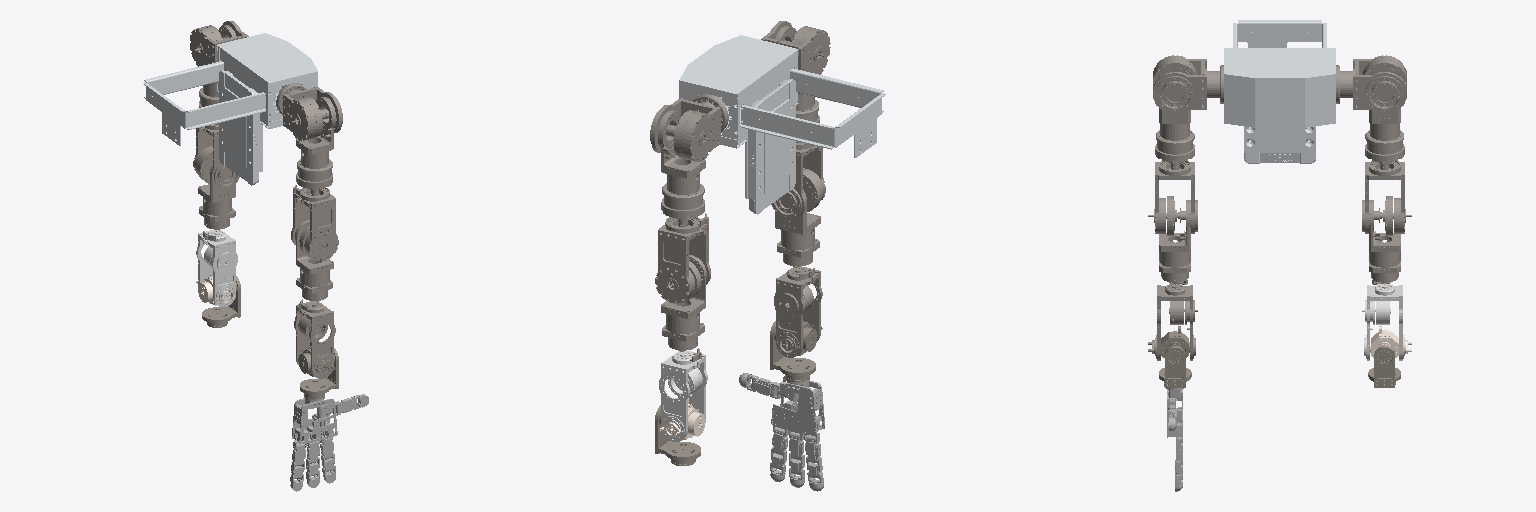
--- Render facts (derived) ---
The picture shows the robot from 3 angles, left to right: view 1: azimuth 30°, elevation 25°; view 2: azimuth 150°, elevation 25°; view 3: azimuth 270°, elevation 25°; orthographic projection.
Model dualarm with 38 links and 37 joints (34 revolute, 1 prismatic, 2 fixed), rooted at base_link, posed all joints at 0.
Visible links, largest first — view 1: body_link, RShY_Link, RShP_Link, RShR_Link, LWrY_Link, RWrY_Link, LElP_Link, RElP_Link, RHandbase_Link, LShY_Link, LShP_Link, LWrR_Link (+2 smaller); view 2: body_link, LShY_Link, LShP_Link, RWrY_Link, LShR_Link, LWrY_Link, RElP_Link, LElP_Link, RHandbase_Link, RShY_Link, RShP_Link, RWrR_Link (+3 smaller); view 3: body_link, RShP_Link, LShP_Link, LShR_Link, RShR_Link, LShY_Link, RShY_Link, LElP_Link, RElP_Link, LWrY_Link, RWrY_Link, LWrR_Link (+3 smaller).
Link boxes in pixels (x1,y1,x2,y2): body_link: [143, 33, 317, 185]; RShY_Link: [291, 188, 338, 260]; RShP_Link: [276, 83, 342, 140]; RShR_Link: [293, 97, 336, 195]; LWrY_Link: [196, 229, 237, 306]; RWrY_Link: [294, 301, 335, 378]; LElP_Link: [198, 165, 235, 240]; RElP_Link: [295, 220, 333, 310]; RHandbase_Link: [292, 396, 337, 444]; LShY_Link: [193, 124, 239, 189]; LShP_Link: [190, 21, 248, 66]; LWrR_Link: [202, 276, 240, 327]; body_link: [679, 35, 885, 214]; LShY_Link: [655, 217, 710, 303]; LShP_Link: [650, 94, 728, 161]; RWrY_Link: [774, 266, 822, 357]; LShR_Link: [658, 110, 708, 226]; LWrY_Link: [659, 350, 707, 441]; RElP_Link: [775, 190, 820, 278]; LElP_Link: [661, 255, 706, 361]; RHandbase_Link: [771, 375, 824, 434]; RShY_Link: [771, 143, 825, 219]; RShP_Link: [761, 21, 830, 74]; RWrR_Link: [770, 321, 815, 381]; body_link: [1224, 20, 1335, 163]; RShP_Link: [1153, 55, 1223, 113]; LShP_Link: [1336, 55, 1406, 113]; LShR_Link: [1365, 81, 1404, 169]; RShR_Link: [1155, 81, 1194, 169]; LShY_Link: [1362, 161, 1411, 239]; RShY_Link: [1148, 161, 1197, 239]; LElP_Link: [1369, 200, 1400, 284]; RElP_Link: [1159, 200, 1190, 284]; LWrY_Link: [1362, 283, 1404, 360]; RWrY_Link: [1155, 283, 1197, 360]; LWrR_Link: [1368, 346, 1400, 387].
Size in the robot's own frame: 0.3863 by 0.529 by 0.9342 metres.
Meshes: 38 distinct files referenced, 32 mesh visuals loaded (32 binary STL); not drawn: 6 (reference not matched to a file when rendering).

robot.urdf — dualarm:
<?xml version="1.0" encoding="utf-8"?>
<!-- This URDF was automatically created by SolidWorks to URDF Exporter! Originally created by Stephen Brawner ([email redacted]) 
     Commit Version: 1.6.0-1-g15f4949  Build Version: 1.6.7594.29634
     For more information, please see http://wiki.ros.org/sw_urdf_exporter -->

<robot name="dualarm">

<mujoco>
        <compiler meshdir="meshes"                  balanceinertia="true"                  strippath="false"/>
        <option collision="predefined" cone="elliptic" jacobian="sparse" tolerance="1e-6" iterations="30" solver="CG" timestep="0.002"/>
</mujoco>

  <link
    name="base_link">
    <inertial>
      <origin
        xyz="-4.0953E-06 -0.042766 0.22804"
        rpy="0 0 -1.5707963267949" />
      <mass
        value="44.006" />
      <inertia
        ixx="3.0534"
        ixy="-5.4432E-07"
        ixz="4.6629E-06"
        iyy="3.5629"
        iyz="-0.0079515"
        izz="3.3409" />
    </inertial>
    <visual>
      <origin
        xyz="0 0 0"
        rpy="0 0 -1.5707963267949" />
      <geometry>
        <mesh
          filename="base_link.STL" />
      </geometry>
	<origin
        xyz="0 0 0"
        rpy="0 0 1" />
      <material
        name="">
        <color
          rgba="0.50196 1 0.50196 1" />
      </material>
    </visual>
    <collision>
      <origin
        xyz="0 0 0"
        rpy="0 0 -1.5707963267949" />
      <geometry>
        <mesh
          filename="base_link.STL" />
      </geometry>
    </collision>
  </link>
  <link
    name="body_link">
    <inertial>
      <origin
        xyz="0.070879 0.38092 3.2435E-05"
        rpy="0 0 0" />
      <mass
        value="5.9559" />
      <inertia
        ixx="0.017572"
        ixy="3.3631E-05"
        ixz="1.2495E-05"
        iyy="0.012836"
        iyz="8.0101E-06"
        izz="0.012672" />
    </inertial>
    <visual>
      <origin
        xyz="0 0 0"
        rpy="0 0 0" />
      <geometry>
        <mesh
          filename="body_link.STL" />
      </geometry>
      <material
        name="">
        <color
          rgba="0.89804 0.91765 0.92941 1" />
      </material>
    </visual>
    <collision>
      <origin
        xyz="0 0 0"
        rpy="0 0 0" />
      <geometry>
        <mesh
          filename="body_link.STL" />
      </geometry>
    </collision>
  </link>
  <joint
    name="j0"
    type="prismatic">
    <origin
      xyz="0.159800001842985 0 0.615"
      rpy="1.5707963267949 0 0" />
    <parent
      link="base_link" />
    <child
      link="body_link" />
    <axis
      xyz="0 1 0" />
    <limit
      lower="-0.3"
      upper="0.3"
      effort="100"
      velocity="10" />
    <dynamics
      damping="5.0"
      friction="1.0" />
  </joint>
  <link
    name="LShP_Link">
    <inertial>
      <origin
        xyz="-0.013031 -8.3122E-05 -0.078324"
        rpy="0 0 0" />
      <mass
        value="2.0773" />
      <inertia
        ixx="0.0019773"
        ixy="-1.8753E-09"
        ixz="4.9862E-06"
        iyy="0.001179"
        iyz="2.8364E-07"
        izz="3.5291747" />
    </inertial>
    <visual>
      <origin
        xyz="0 0 0"
        rpy="0 0 0" />
      <geometry>
        <mesh
          filename="LShP_Link.STL" />
      </geometry>
      <material
        name="">
        <color
          rgba="0.66667 0.63922 0.61961 1" />
      </material>
    </visual>
    <collision>
      <origin
        xyz="0 0 0"
        rpy="0 0 0" />
      <geometry>
        <mesh
          filename="LShP_Link.STL" />
      </geometry>
    </collision>
  </link>
  <joint
    name="j1"
    type="revolute">
    <origin
      xyz="0.0762 0.3943 -0.121"
      rpy="0 0 0" />
    <parent
      link="body_link" />
    <child
      link="LShP_Link" />
    <axis
      xyz="0 0 -1" />
    <limit
      lower="-3.14"
      upper="3.14"
      effort="100"
      velocity="10" />
    <dynamics
      damping="5.0"
      friction="1.0" />
  </joint>
  <link
    name="LShR_Link">
    <inertial>
      <origin
        xyz="-0.020572 -0.12696 2.6805E-05"
        rpy="0 0 0" />
      <mass
        value="1.9866" />
      <inertia
        ixx="3.5290873"
        ixy="-8.7998E-05"
        ixz="-8.3769E-08"
        iyy="0.0014181"
        iyz="-9.5082E-09"
        izz="0.0010816" />
    </inertial>
    <visual>
      <origin
        xyz="0 0 0"
        rpy="0 0 0" />
      <geometry>
        <mesh
          filename="LShR_Link.STL" />
      </geometry>
      <material
        name="">
        <color
          rgba="0.66667 0.63922 0.61961 1" />
      </material>
    </visual>
    <collision>
      <origin
        xyz="0 0 0"
        rpy="0 0 0" />
      <geometry>
        <mesh
          filename="LShR_Link.STL" />
      </geometry>
    </collision>
  </link>
  <joint
    name="j2"
    type="revolute">
    <origin
      xyz="0.023 0 -0.089"
      rpy="0 0 0" />
    <parent
      link="LShP_Link" />
    <child
      link="LShR_Link" />
    <axis
      xyz="1 0 0" />
    <limit
      lower="-3.14"
      upper="3.14"
      effort="100"
      velocity="10" />
    <dynamics
      damping="5.0"
      friction="1.0" />
  </joint>
  <link
    name="LShY_Link">
    <inertial>
      <origin
        xyz="-1.906E-06 -0.11912 -0.006149"
        rpy="0 0 0" />
      <mass
        value="1.8888" />
      <inertia
        ixx="0.0011071"
        ixy="-1.5167E-07"
        ixz="2.2366E-08"
        iyy="2.48980209"
        iyz="1.2766E-05"
        izz="0.0016413" />
    </inertial>
    <visual>
      <origin
        xyz="0 0 0"
        rpy="0 0 0" />
      <geometry>
        <mesh
          filename="LShY_Link.STL" />
      </geometry>
      <material
        name="">
        <color
          rgba="0.66667 0.63922 0.61961 1" />
      </material>
    </visual>
    <collision>
      <origin
        xyz="0 0 0"
        rpy="0 0 0" />
      <geometry>
        <mesh
          filename="LShY_Link.STL" />
      </geometry>
    </collision>
  </link>
  <joint
    name="j3"
    type="revolute">
    <origin
      xyz="-0.023 -0.1595 0"
      rpy="0 0 0" />
    <parent
      link="LShR_Link" />
    <child
      link="LShY_Link" />
    <axis
      xyz="0 -1 0" />
    <limit
      lower="-3.14"
      upper="3.14"
      effort="100"
      velocity="10" />
    <dynamics
      damping="5.0"
      friction="1.0" />
  </joint>
  <link
    name="LElP_Link">
    <inertial>
      <origin
        xyz="-9.5593E-05 -0.10373 -0.0011155"
        rpy="0 0 0" />
      <mass
        value="1.1558" />
      <inertia
        ixx="0.00046405"
        ixy="-2.3865E-07"
        ixz="-1.4191E-07"
        iyy="0.00052408"
        iyz="-5.4391E-05"
        izz="2.4894565" />
    </inertial>
    <visual>
      <origin
        xyz="0 0 0"
        rpy="0 0 0" />
      <geometry>
        <mesh
          filename="LElP_Link.STL" />
      </geometry>
      <material
        name="">
        <color
          rgba="0.66667 0.63922 0.61961 1" />
      </material>
    </visual>
    <collision>
      <origin
        xyz="0 0 0"
        rpy="0 0 0" />
      <geometry>
        <mesh
          filename="LElP_Link.STL" />
      </geometry>
    </collision>
  </link>
  <joint
    name="j4"
    type="revolute">
    <origin
      xyz="0 -0.1305 0.004"
      rpy="0 0 0" />
    <parent
      link="LShY_Link" />
    <child
      link="LElP_Link" />
    <axis
      xyz="0 0 1" />
    <limit
      lower="-3.14"
      upper="3.14"
      effort="100"
      velocity="10" />
    <dynamics
      damping="5.0"
      friction="1.0" />
  </joint>
  <link
    name="LWrY_Link">
    <inertial>
      <origin
        xyz="-4.2008E-05 -0.092156 -0.003711"
        rpy="0 0 0" />
      <mass
        value="1.3048" />
      <inertia
        ixx="0.00065464"
        ixy="-4.2304E-10"
        ixz="5.1027E-08"
        iyy="1.38329262"
        iyz="4.7231E-07"
        izz="0.00081507" />
    </inertial>
    <visual>
      <origin
        xyz="0 0 0"
        rpy="0 0 0" />
      <geometry>
        <mesh
          filename="LWrY_Link.STL" />
      </geometry>
      <material
        name="">
        <color
          rgba="0.89804 0.89804 0.89804 1" />
      </material>
    </visual>
    <collision>
      <origin
        xyz="0 0 0"
        rpy="0 0 0" />
      <geometry>
        <mesh
          filename="LWrY_Link.STL" />
      </geometry>
    </collision>
  </link>
  <joint
    name="j5"
    type="revolute">
    <origin
      xyz="0 -0.12411 -0.004"
      rpy="0 0 0" />
    <parent
      link="LElP_Link" />
    <child
      link="LWrY_Link" />
    <axis
      xyz="0 -1 0" />
    <limit
      lower="-3.14"
      upper="3.14"
      effort="100"
      velocity="10" />
    <dynamics
      damping="5.0"
      friction="1.0" />
  </joint>
  <link
    name="LWrP_Link">
    <inertial>
      <origin
        xyz="0.0032734 -0.00018748 0.041704"
        rpy="0 0 0" />
      <mass
        value="1.0771" />
      <inertia
        ixx="0.00042926"
        ixy="2.6489E-07"
        ixz="-3.0298E-09"
        iyy="0.00029172"
        iyz="7.7372E-09"
        izz="1.38325031" />
    </inertial>
    <visual>
      <origin
        xyz="0 0 0"
        rpy="0 0 0" />
      <geometry>
        <mesh
          filename="LWrP_Link.STL" />
      </geometry>
      <material
        name="">
        <color
          rgba="1 0.94902 0.9098 1" />
      </material>
    </visual>
    <collision>
      <origin
        xyz="0 0 0"
        rpy="0 0 0" />
      <geometry>
        <mesh
          filename="LWrP_Link.STL" />
      </geometry>
    </collision>
  </link>
  <joint
    name="j6"
    type="revolute">
    <origin
      xyz="0 -0.16589 -0.042"
      rpy="0 0 0" />
    <parent
      link="LWrY_Link" />
    <child
      link="LWrP_Link" />
    <axis
      xyz="0 0 -1" />
    <limit
      lower="-3.14"
      upper="3.14"
      effort="100"
      velocity="10" />
    <dynamics
      damping="5.0"
      friction="1.0" />
  </joint>
  <link
    name="LWrR_Link">
    <inertial>
      <origin
        xyz="0.010415 -0.037361 -1.1456E-06"
        rpy="0 0 0" />
      <mass
        value="0.27656" />
      <inertia
        ixx="1.38315913"
        ixy="4.197E-06"
        ixz="-4.0659E-10"
        iyy="8.6287E-05"
        iyz="-3.8448E-09"
        izz="0.00014558" />
    </inertial>
    <visual>
      <origin
        xyz="0 0 0"
        rpy="0 0 0" />
      <geometry>
        <mesh
          filename="LWrR_Link.STL" />
      </geometry>
      <material
        name="">
        <color
          rgba="0.64706 0.61961 0.58824 1" />
      </material>
    </visual>
    <collision>
      <origin
        xyz="0 0 0"
        rpy="0 0 0" />
      <geometry>
        <mesh
          filename="LWrR_Link.STL" />
      </geometry>
    </collision>
  </link>
  <joint
    name="j7"
    type="revolute">
    <origin
      xyz="0.0177 0 0.042"
      rpy="0 0 0" />
    <parent
      link="LWrP_Link" />
    <child
      link="LWrR_Link" />
    <axis
      xyz="1 0 0" />
    <limit
      lower="-3.14"
      upper="3.14"
      effort="100"
      velocity="10" />
    <dynamics
      damping="5.0"
      friction="1.0" />
  </joint>
  <link
    name="RShP_Link">
    <inertial>
      <origin
        xyz="-0.013031 -8.2555E-05 0.078324"
        rpy="0 0 0" />
      <mass
        value="2.0773" />
      <inertia
        ixx="0.0019773"
        ixy="-2.7295E-08"
        ixz="-4.9926E-06"
        iyy="0.001179"
        iyz="-3.0293E-07"
        izz="3.5291747" />
    </inertial>
    <visual>
      <origin
        xyz="0 0 0"
        rpy="0 0 0" />
      <geometry>
        <mesh
          filename="RShP_Link.STL" />
      </geometry>
      <material
        name="">
        <color
          rgba="0.66667 0.63922 0.61961 1" />
      </material>
    </visual>
    <collision>
      <origin
        xyz="0 0 0"
        rpy="0 0 0" />
      <geometry>
        <mesh
          filename="RShP_Link.STL" />
      </geometry>
    </collision>
  </link>
  <joint
    name="j8"
    type="revolute">
    <origin
      xyz="0.0762 0.3943 0.121"
      rpy="0 0 0" />
    <parent
      link="body_link" />
    <child
      link="RShP_Link" />
    <axis
      xyz="0 0 1" />
    <limit
      lower="-3.14"
      upper="3.14"
      effort="100"
      velocity="10" />
    <dynamics
      damping="5.0"
      friction="1.0" />
  </joint>
  <link
    name="RShR_Link">
    <inertial>
      <origin
        xyz="-0.020572 -0.12696 -2.6614E-05"
        rpy="0 0 0" />
      <mass
        value="1.9866" />
      <inertia
        ixx="3.5290873"
        ixy="-8.7998E-05"
        ixz="9.1373E-08"
        iyy="0.0014181"
        iyz="-1.9602E-11"
        izz="0.0010816" />
    </inertial>
    <visual>
      <origin
        xyz="0 0 0"
        rpy="0 0 0" />
      <geometry>
        <mesh
          filename="RShR_Link.STL" />
      </geometry>
      <material
        name="">
        <color
          rgba="0.66667 0.63922 0.61961 1" />
      </material>
    </visual>
    <collision>
      <origin
        xyz="0 0 0"
        rpy="0 0 0" />
      <geometry>
        <mesh
          filename="RShR_Link.STL" />
      </geometry>
    </collision>
  </link>
  <joint
    name="j9"
    type="revolute">
    <origin
      xyz="0.023 0 0.089"
      rpy="0 0 0" />
    <parent
      link="RShP_Link" />
    <child
      link="RShR_Link" />
    <axis
      xyz="1 0 0" />
    <limit
      lower="-3.14"
      upper="3.14"
      effort="100"
      velocity="10" />
    <dynamics
      damping="5.0"
      friction="1.0" />
  </joint>
  <link
    name="RShY_Link">
    <inertial>
      <origin
        xyz="-1.1816E-06 -0.11912 0.006149"
        rpy="0 0 0" />
      <mass
        value="1.8888" />
      <inertia
        ixx="0.0011071"
        ixy="-1.517E-07"
        ixz="4.0354E-09"
        iyy="2.48980209"
        iyz="-1.2766E-05"
        izz="0.0016413" />
    </inertial>
    <visual>
      <origin
        xyz="0 0 0"
        rpy="0 0 0" />
      <geometry>
        <mesh
          filename="RShY_Link.STL" />
      </geometry>
      <material
        name="">
        <color
          rgba="0.66667 0.63922 0.61961 1" />
      </material>
    </visual>
    <collision>
      <origin
        xyz="0 0 0"
        rpy="0 0 0" />
      <geometry>
        <mesh
          filename="RShY_Link.STL" />
      </geometry>
    </collision>
  </link>
  <joint
    name="j10"
    type="revolute">
    <origin
      xyz="-0.023 -0.1595 0"
      rpy="0 0 0" />
    <parent
      link="RShR_Link" />
    <child
      link="RShY_Link" />
    <axis
      xyz="0 -1 0" />
    <limit
      lower="-3.14"
      upper="3.14"
      effort="100"
      velocity="10" />
    <dynamics
      damping="5.0"
      friction="1.0" />
  </joint>
  <link
    name="RElP_Link">
    <inertial>
      <origin
        xyz="-0.00011214 -0.10373 0.0010998"
        rpy="0 0 0" />
      <mass
        value="1.1558" />
      <inertia
        ixx="0.00046408"
        ixy="-3.9133E-07"
        ixz="1.4188E-07"
        iyy="0.00052408"
        iyz="5.4238E-05"
        izz="2.48945648" />
    </inertial>
    <visual>
      <origin
        xyz="0 0 0"
        rpy="0 0 0" />
      <geometry>
        <mesh
          filename="RElP_Link.STL" />
      </geometry>
      <material
        name="">
        <color
          rgba="0.66667 0.63922 0.61961 1" />
      </material>
    </visual>
    <collision>
      <origin
        xyz="0 0 0"
        rpy="0 0 0" />
      <geometry>
        <mesh
          filename="RElP_Link.STL" />
      </geometry>
    </collision>
  </link>
  <joint
    name="j11"
    type="revolute">
    <origin
      xyz="0 -0.1305 -0.004"
      rpy="0 0 0" />
    <parent
      link="RShY_Link" />
    <child
      link="RElP_Link" />
    <axis
      xyz="0 0 -1" />
    <limit
      lower="-3.14"
      upper="3.14"
      effort="100"
      velocity="10" />
    <dynamics
      damping="5.0"
      friction="1.0" />
  </joint>
  <link
    name="RWrY_Link">
    <inertial>
      <origin
        xyz="-5.7522E-05 -0.092145 0.0037353"
        rpy="0 0 0" />
      <mass
        value="1.3048" />
      <inertia
        ixx="0.00065464"
        ixy="4.2304E-10"
        ixz="5.1027E-08"
        iyy="1.38329262"
        iyz="-4.7231E-07"
        izz="0.00081507" />
    </inertial>
    <visual>
      <origin
        xyz="0 0 0"
        rpy="0 0 0" />
      <geometry>
        <mesh
          filename="RWrY_Link.STL" />
      </geometry>
      <material
        name="">
        <color
          rgba="0.66667 0.63922 0.61961 1" />
      </material>
    </visual>
    <collision>
      <origin
        xyz="0 0 0"
        rpy="0 0 0" />
      <geometry>
        <mesh
          filename="RWrY_Link.STL" />
      </geometry>
    </collision>
  </link>
  <joint
    name="j12"
    type="revolute">
    <origin
      xyz="0 -0.12411 0.004"
      rpy="0 0 0" />
    <parent
      link="RElP_Link" />
    <child
      link="RWrY_Link" />
    <axis
      xyz="0 -1 0" />
    <limit
      lower="-3.14"
      upper="3.14"
      effort="100"
      velocity="10" />
    <dynamics
      damping="5.0"
      friction="1.0" />
  </joint>
  <link
    name="RWrP_Link">
    <inertial>
      <origin
        xyz="0.0022235 -0.00018748 -0.041704"
        rpy="0 0 0" />
      <mass
        value="1.0771" />
      <inertia
        ixx="0.000429261"
        ixy="2.6524E-07"
        ixz="-5.4716E-09"
        iyy="0.000291719"
        iyz="7.7386E-09"
        izz="1.38325031" />
    </inertial>
    <visual>
      <origin
        xyz="0 0 0"
        rpy="0 0 0" />
      <geometry>
        <mesh
          filename="RWrP_Link.STL" />
      </geometry>
      <material
        name="">
        <color
          rgba="0.64706 0.61961 0.58824 1" />
      </material>
    </visual>
    <collision>
      <origin
        xyz="0 0 0"
        rpy="0 0 0" />
      <geometry>
        <mesh
          filename="RWrP_Link.STL" />
      </geometry>
    </collision>
  </link>
  <joint
    name="j13"
    type="revolute">
    <origin
      xyz="0 -0.16589 0.042"
      rpy="0 0 0" />
    <parent
      link="RWrY_Link" />
    <child
      link="RWrP_Link" />
    <axis
      xyz="0 0 1" />
    <limit
      lower="-3.14"
      upper="3.14"
      effort="100"
      velocity="10" />
    <dynamics
      damping="5.0"
      friction="1.0" />
  </joint>
  <link
    name="RWrR_Link">
    <inertial>
      <origin
        xyz="0.010415 -0.037361 -1.1456E-06"
        rpy="0 0 0" />
      <mass
        value="0.27656" />
      <inertia
        ixx="1.38315913"
        ixy="4.197E-06"
        ixz="-4.0659E-10"
        iyy="8.6287E-05"
        iyz="-3.8448E-09"
        izz="0.00014558" />
    </inertial>
    <visual>
      <origin
        xyz="0 0 0"
        rpy="0 0 0" />
      <geometry>
        <mesh
          filename="RWrR_Link.STL" />
      </geometry>
      <material
        name="">
        <color
          rgba="0.64706 0.61961 0.58824 1" />
      </material>
    </visual>
    <collision>
      <origin
        xyz="0 0 0"
        rpy="0 0 0" />
      <geometry>
        <mesh
          filename="RWrR_Link.STL" />
      </geometry>
    </collision>
  </link>
  <joint
    name="j14"
    type="revolute">
    <origin
      xyz="0.0177 0 -0.042"
      rpy="0 0 0" />
    <parent
      link="RWrP_Link" />
    <child
      link="RWrR_Link" />
    <axis
      xyz="1 0 0" />
    <limit
      lower="-3.14"
      upper="3.14"
      effort="100"
      velocity="10" />
    <dynamics
      damping="5.0"
      friction="1.0" />
    <!-- <mimic
      joint="j7"
      multiplier="1"
      offset="0" /> -->
  </joint>
  <!-- base -->
  <link name="rh_p12_rn_base">
    <collision>
      <origin rpy="0 0 0" xyz="0 0 0"/>
      <geometry>
        <mesh filename="base.stl" scale="0.001 0.001 0.001"/>
      </geometry>
    </collision>
    <visual>
      <origin rpy="0 0 0" xyz="0 0 0"/>
      <geometry>
        <mesh filename="base.stl" scale="0.001 0.001 0.001"/>
      </geometry>
      <material
        name="">
        <color
          rgba="0.2 0.2 0.2 1.0"/>
      </material>
    </visual>
    <inertial>
      <origin rpy="0 0 0" xyz="0.000 0.000 0.032"/>
      <mass value="0.236"/>
      <inertia ixx="1.0" ixy="0.0" ixz="0.0" iyy="1.0" iyz="0.0" izz="1.0"/>
    </inertial>
  </link>
  <!-- Joint -->
  <joint name="rh_r1" type="revolute">
    <parent link="rh_p12_rn_base"/>
    <child link="rh_p12_rn_r1"/>
    <origin rpy="0 0 0" xyz="0.0 0.008 0.048"/>
    <axis xyz="1 0 0"/>
    <limit effort="1000" lower="0.0" upper="1.1" velocity="6.5"/>
    <dynamics damping="0.7"/>
  </joint>
  <!-- rh_p12_rn_r1 -->
  <link name="rh_p12_rn_r1">
    <collision>
      <origin rpy="0 0 0" xyz="0 0 0"/>
      <geometry>
        <mesh filename="r1.stl" scale="0.001 0.001 0.001"/>
      </geometry>
    </collision>
    <visual>
      <origin rpy="0 0 0" xyz="0 0 0"/>
      <geometry>
        <mesh filename="r1.stl" scale="0.001 0.001 0.001"/>
      </geometry>
      <material
        name="">
        <color
          rgba="0.2 0.2 0.2 1.0"/>
      </material>
    </visual>
    <inertial>
      <origin rpy="0 0 0" xyz="0.000 0.034 0.004"/>
      <mass value="0.068"/>
      <inertia ixx="1.0" ixy="0.0" ixz="0.0" iyy="1.0" iyz="0.0" izz="1.0"/>
    </inertial>
  </link>
  <!-- Right Joint 2 -->
  <joint name="rh_r2" type="revolute">
    <parent link="rh_p12_rn_r1"/>
    <child link="rh_p12_rn_r2"/>
    <origin rpy="0 0 0" xyz="0.0 0.0493634 0.0285"/>
    <axis xyz="-1 0 0"/>
    <limit effort="1000" lower="0.0" upper="1.0" velocity="6.5"/>
    <dynamics damping="0.7"/>
  </joint>
  <!-- rh_p12_rn_r2 -->
  <link name="rh_p12_rn_r2">
    <collision>
      <origin rpy="0 0 0" xyz="0 0 0"/>
      <geometry>
        <mesh filename="r2.stl" scale="0.001 0.001 0.001"/>
      </geometry>
    </collision>
    <visual>
      <origin rpy="0 0 0" xyz="0 0 0"/>
      <geometry>
        <mesh filename="r2.stl" scale="0.001 0.001 0.001"/>
      </geometry>
      <material
        name="">
        <color
          rgba="0.2 0.2 0.2 1.0"/>
      </material>
    </visual>
    <inertial>
      <origin rpy="0 0 0" xyz="0.000 0.006 0.011"/>
      <mass value="0.022"/>
      <inertia ixx="1.0" ixy="0.0" ixz="0.0" iyy="1.0" iyz="0.0" izz="1.0"/>
    </inertial>
  </link>
  <!-- Left Joint 1 -->
  <joint name="rh_l1" type="revolute">
    <parent link="rh_p12_rn_base"/>
    <child link="rh_p12_rn_l1"/>
    <origin rpy="0 0 0" xyz="0.0 -0.008 0.048"/>
    <axis xyz="-1 0 0"/>
    <limit effort="1000" lower="0.0" upper="1.1" velocity="6.5"/>
    <dynamics damping="0.7"/>
  </joint>
  <!-- rh_p12_rn_l1 -->
  <link name="rh_p12_rn_l1">
    <collision>
      <origin rpy="0 0 0" xyz="0 0 0"/>
      <geometry>
        <mesh filename="l1.stl" scale="0.001 0.001 0.001"/>
      </geometry>
    </collision>
    <visual>
      <origin rpy="0 0 0" xyz="0 0 0"/>
      <geometry>
        <mesh filename="l1.stl" scale="0.001 0.001 0.001"/>
      </geometry>
      <material
        name="">
        <color
          rgba="0.2 0.2 0.2 1.0"/>
      </material>
    </visual>
    <inertial>
      <origin rpy="0 0 0" xyz="0.000 -0.034 0.004"/>
      <mass value="0.068"/>
      <inertia ixx="1.0" ixy="0.0" ixz="0.0" iyy="1.0" iyz="0.0" izz="1.0"/>
    </inertial>
  </link>
  <!-- Left Joint 2 -->
  <joint name="rh_l2" type="revolute">
    <parent link="rh_p12_rn_l1"/>
    <child link="rh_p12_rn_l2"/>
    <origin rpy="0 0 0" xyz="0.0 -0.0493634 0.0285"/>
    <axis xyz="1 0 0"/>
    <limit effort="1000" lower="0.0" upper="1.0" velocity="6.5"/>
    <dynamics damping="0.7"/>
  </joint>
  <!-- rh_p12_rn_l2 -->
  <link name="rh_p12_rn_l2">
    <collision>
      <origin rpy="0 0 0" xyz="0 0 0"/>
      <geometry>
        <mesh filename="l2.stl" scale="0.001 0.001 0.001"/>
      </geometry>
    </collision>
    <visual>
      <origin rpy="0 0 0" xyz="0 0 0"/>
      <geometry>
        <mesh filename="l2.stl" scale="0.001 0.001 0.001"/>
      </geometry>
      <material
        name="">
        <color
          rgba="0.2 0.2 0.2 1.0"/>
      </material>
    </visual>
    <inertial>
      <origin rpy="0 0 0" xyz="0.000 -0.006 0.011"/>
      <mass value="0.022"/>
      <inertia ixx="1.0" ixy="0.0" ixz="0.0" iyy="1.0" iyz="0.0" izz="1.0"/>
    </inertial>
  </link>
  <joint name="LHand_joint" type="fixed">
    <origin
      xyz="-0.0177 -0.080748 0"
      rpy="1.5708 1.5708 0" />
    <parent link="LWrR_Link"/>
    <child link="rh_p12_rn_base"/>
  </joint>
  <link
    name="RHandbase_Link">
    <inertial>
      <origin
        xyz="-0.00034988 -0.0015951 -0.053958"
        rpy="0 0 0" />
      <mass
        value="0.15198" />
      <inertia
        ixx="5.1404E-05"
        ixy="-1.585E-08"
        ixz="2.4239E-08"
        iyy="3.5359E-05"
        iyz="4.4231E-06"
        izz="3.2927E-05" />
    </inertial>
    <visual>
      <origin
        xyz="0 0 0"
        rpy="0 0 0" />
      <geometry>
        <mesh
          filename="RHandbase_Link.STL" />
      </geometry>
      <material
        name="">
        <color
          rgba="0.75294 0.75294 0.75294 1" />
      </material>
    </visual>
    <collision>
      <origin
        xyz="0 0 0"
        rpy="0 0 0" />
      <geometry>
        <mesh
          filename="RHandbase_Link.STL" />
      </geometry>
    </collision>
  </link>
  <joint
    name="RHBase"
    type="fixed">
    <origin
      xyz="-0.0177 -0.080748 0"
      rpy="-1.5708 -1.5708 0" />
    <parent
      link="RWrR_Link" />
    <child
      link="RHandbase_Link" />
    <axis
      xyz="0 0 0" />
    <limit
      effort="0"
      velocity="0" />
  </joint>
  <link
    name="Hand_RT1">
    <inertial>
      <origin
        xyz="5.49453180311542E-05 0.0141589395056247 -0.00742960343485388"
        rpy="0 0 0" />
      <mass
        value="0.0206488185480908" />
      <inertia
        ixx="1.87139644040444E-06"
        ixy="-3.68276830732875E-09"
        ixz="8.77796860820766E-10"
        iyy="1.36037580141996E-06"
        iyz="3.60343020311637E-08"
        izz="9.69993577847323E-07" />
    </inertial>
    <visual>
      <origin
        xyz="0 0 0"
        rpy="0 0 0" />
      <geometry>
        <mesh
          filename="Hand_RT1.STL" />
      </geometry>
      <material
        name="">
        <color
          rgba="0.752941176470588 0.752941176470588 0.752941176470588 1" />
      </material>
    </visual>
    <collision>
      <origin
        xyz="0 0 0"
        rpy="0 0 0" />
      <geometry>
        <mesh
          filename="Hand_RT1.STL" />
      </geometry>
    </collision>
  </link>
  <joint
    name="RT1"
    type="revolute">
    <origin
      xyz="0.006325 0.010945 -0.044721"
      rpy="3.0543 0 3.1416" />
    <parent
      link="RHandbase_Link" />
    <child
      link="Hand_RT1" />
    <axis
      xyz="0 0 1" /> <!--xyz="0 0 -1" />-->
    <limit
      lower="-3.14"
      upper="3.14"
      effort="200"
      velocity="10" />
    <dynamics
      damping="0.1"
      friction="0.1" />
  </joint>
  <link
    name="Hand_RT2">
    <inertial>
      <origin
        xyz="-2.98451888203211E-12 0.000573264282457409 0.00797915198194427"
        rpy="0 0 0" />
      <mass
        value="0.00152598624013964" />
      <inertia
        ixx="6.01888401624109E-08"
        ixy="1.29558068768742E-16"
        ixz="-1.75878509494189E-16"
        iyy="3.40749682145381E-08"
        iyz="-2.35613785746893E-10"
        izz="5.3869251546022E-08" />
    </inertial>
    <visual>
      <origin
        xyz="0 0 0"
        rpy="0 0 0" />
      <geometry>
        <mesh
          filename="Hand_RT2.STL" />
      </geometry>
      <material
        name="">
        <color
          rgba="0.752941176470588 0.752941176470588 0.752941176470588 1" />
      </material>
    </visual>
    <collision>
      <origin
        xyz="0 0 0"
        rpy="0 0 0" />
      <geometry>
        <mesh
          filename="Hand_RT2.STL" />
      </geometry>
    </collision>
  </link>
  <joint
    name="RT2"
    type="revolute">
    <origin
      xyz="5E-05 0.0441 0"
      rpy="-1.5708 0 -3.1416" />
    <parent
      link="Hand_RT1" />
    <child
      link="Hand_RT2" />
    <axis
      xyz="0 0 1" /> <!--xyz="0 0 -1" />-->
    <limit
      lower="-3.14"
      upper="3.14"
      effort="200"
      velocity="10" />
    <dynamics
      damping="0.1"
      friction="0.1" />
  </joint>
  <link
    name="Hand_RT3">
    <inertial>
      <origin
        xyz="0.0200500000003899 0.00046981180728364 -0.000500000000021816"
        rpy="0 0 0" />
      <mass
        value="0.0341378762034901" />
      <inertia
        ixx="1.55095491954362E-06"
        ixy="1.52991399830316E-20"
        ixz="5.14679947105511E-08"
        iyy="3.07194883419817E-06"
        iyz="2.34218964432158E-16"
        izz="2.03699339503977E-06" />
    </inertial>
    <visual>
      <origin
        xyz="0 0 0"
        rpy="0 0 0" />
      <geometry>
        <mesh
          filename="Hand_RT3.STL" />
      </geometry>
      <material
        name="">
        <color
          rgba="0.752941176470588 0.752941176470588 0.752941176470588 1" />
      </material>
    </visual>
    <collision>
      <origin
        xyz="0 0 0"
        rpy="0 0 0" />
      <geometry>
        <mesh
          filename="Hand_RT3.STL" />
      </geometry>
    </collision>
  </link>
  <joint
    name="RT3"
    type="revolute">
    <origin
      xyz="0 0 0"
      rpy="0 1.5708 1.5708" />
    <parent
      link="Hand_RT2" />
    <child
      link="Hand_RT3" />
    <axis
      xyz="0 0 -1" /> <!--xyz="0 0 1"-->
    <limit
      lower="-3.14"
      upper="3.14"
      effort="200"
      velocity="10" />
    <dynamics
      damping="0.1"
      friction="0.1" />
  </joint>
  <link
    name="Hand_RT4">
    <inertial>
      <origin
        xyz="0.0191981849639985 6.45169196355029E-05 -0.000413500558168245"
        rpy="0 0 0" />
      <mass
        value="0.00982919949661632" />
      <inertia
        ixx="4.97802243662013E-07"
        ixy="2.47612863030204E-08"
        ixz="2.1141087692782E-10"
        iyy="6.05942781284524E-07"
        iyz="2.35196143972078E-11"
        izz="3.88556643270007E-07" />
    </inertial>
    <visual>
      <origin
        xyz="0 0 0"
        rpy="0 0 0" />
      <geometry>
        <mesh
          filename="Hand_RT4.STL" />
      </geometry>
      <material
        name="">
        <color
          rgba="0.752941176470588 0.752941176470588 0.752941176470588 1" />
      </material>
    </visual>
    <collision>
      <origin
        xyz="0 0 0"
        rpy="0 0 0" />
      <geometry>
        <mesh
          filename="Hand_RT4.STL" />
      </geometry>
    </collision>
  </link>
  <joint
    name="RT4"
    type="revolute">
    <origin
      xyz="0.0401000000000001 0 -0.000675000000000314"
      rpy="0 0 0" />
    <parent
      link="Hand_RT3" />
    <child
      link="Hand_RT4" />
    <axis
      xyz="0 0 -1" />
    <limit
      lower="-3.14"
      upper="3.14"
      effort="200"
      velocity="10" />
    <dynamics
      damping="0.1"
      friction="0.1" />
  </joint>
  <link
    name="Hand_RF1J1">
    <inertial>
      <origin
        xyz="-2.49921784656326E-12 0.00012434607868983 -0.00799875217440105"
        rpy="0 0 0" />
      <mass
        value="0.00152598624013965" />
      <inertia
        ixx="6.01888401624112E-08"
        ixy="-1.44394209395132E-16"
        ixz="1.63917409908452E-16"
        iyy="3.42662419397252E-08"
        iyz="-1.95065489728784E-09"
        izz="5.36779778208354E-08" />
    </inertial>
    <visual>
      <origin
        xyz="0 0 0"
        rpy="0 0 0" />
      <geometry>
        <mesh
          filename="Hand_RF1J1.STL" />
      </geometry>
      <material
        name="">
        <color
          rgba="0.752941176470588 0.752941176470588 0.752941176470588 1" />
      </material>
    </visual>
    <collision>
      <origin
        xyz="0 0 0"
        rpy="0 0 0" />
      <geometry>
        <mesh
          filename="Hand_RF1J1.STL" />
      </geometry>
    </collision>
  </link>
  <joint
    name="RF1J1"
    type="revolute">
    <origin
      xyz="-0.006325 0.033168 -0.11515"
      rpy="3.1416 0 0" />
    <parent
      link="RHandbase_Link" />
    <child
      link="Hand_RF1J1" />
    <axis
      xyz="0 0.087156 -0.99619" />
    <limit
      lower="-3.14"
      upper="3.14"
      effort="200"
      velocity="10" />
    <dynamics
      damping="0.1"
      friction="0.1" />
  </joint>
  <link
    name="Hand_RF1J2">
    <inertial>
      <origin
        xyz="0.0200500000000374 0.000469811807283608 4.05647737622417E-13"
        rpy="0 0 0" />
      <mass
        value="0.0341378762034902" />
      <inertia
        ixx="1.55095491954362E-06"
        ixy="1.71004102897169E-20"
        ixz="5.14679947105533E-08"
        iyy="3.07194883419817E-06"
        iyz="2.34218966333191E-16"
        izz="2.03699339503977E-06" />
    </inertial>
    <visual>
      <origin
        xyz="0 0 0"
        rpy="0 0 0" />
      <geometry>
        <mesh
          filename="Hand_RF1J2.STL" />
      </geometry>
      <material
        name="">
        <color
          rgba="0.752941176470588 0.752941176470588 0.752941176470588 1" />
      </material>
    </visual>
    <collision>
      <origin
        xyz="0 0 0"
        rpy="0 0 0" />
      <geometry>
        <mesh
          filename="Hand_RF1J2.STL" />
      </geometry>
    </collision>
  </link>
  <joint
    name="RF1J2"
    type="revolute">
    <origin
      xyz="0 0.0004981 4.3578E-05"
      rpy="3.1416 -1.4835 -1.5708" />
    <parent
      link="Hand_RF1J1" />
    <child
      link="Hand_RF1J2" />
    <axis
      xyz="0 0 -1" /> <!--xyz="0 0 1"-->
    <limit
      lower="-3.14"
      upper="3.14"
      effort="200"
      velocity="10" />
    <dynamics
      damping="0.1"
      friction="0.1" />
  </joint>
  <link
    name="Hand_RF1J3">
    <inertial>
      <origin
        xyz="0.021345 0.00045246 -0.00026275"
        rpy="0 0 0" />
      <mass
        value="0.017723" />
      <inertia
        ixx="7.8208E-07"
        ixy="1.2845E-16"
        ixz="2.5519E-08"
        iyy="1.5787E-06"
        iyz="-2.6851E-16"
        izz="1.0666E-06" />
    </inertial>
    <visual>
      <origin
        xyz="0 0 0"
        rpy="0 0 0" />
      <geometry>
        <mesh
          filename="Hand_RF1J3.STL" />
      </geometry>
      <material
        name="">
        <color
          rgba="0.75294 0.75294 0.75294 1" />
      </material>
    </visual>
    <collision>
      <origin
        xyz="0 0 0"
        rpy="0 0 0" />
      <geometry>
        <mesh
          filename="Hand_RF1J3.STL" />
      </geometry>
    </collision>
  </link>
  <joint
    name="RF1J3"
    type="revolute">
    <origin
      xyz="0.0401 0 -0.000125"
      rpy="0 0 0" />
    <parent
      link="Hand_RF1J2" />
    <child
      link="Hand_RF1J3" />
    <axis
      xyz="0 0 -1" />
    <limit
      lower="-3.14"
      upper="3.14"
      effort="200"
      velocity="10" />
    <dynamics
      damping="0.1"
      friction="0.1" />
  </joint>
  <link
    name="Hand_RF1J4">
    <inertial>
      <origin
        xyz="0.019198 6.4517E-05 -0.0004135"
        rpy="0 0 0" />
      <mass
        value="0.0098292" />
      <inertia
        ixx="4.978E-07"
        ixy="2.4761E-08"
        ixz="2.1141E-10"
        iyy="6.0594E-07"
        iyz="2.352E-11"
        izz="3.8856E-07" />
    </inertial>
    <visual>
      <origin
        xyz="0 0 0"
        rpy="0 0 0" />
      <geometry>
        <mesh
          filename="Hand_RF1J4.STL" />
      </geometry>
      <material
        name="">
        <color
          rgba="0.75294 0.75294 0.75294 1" />
      </material>
    </visual>
    <collision>
      <origin
        xyz="0 0 0"
        rpy="0 0 0" />
      <geometry>
        <mesh
          filename="Hand_RF1J4.STL" />
      </geometry>
    </collision>
  </link>
  <joint
    name="RF1J4"
    type="revolute">
    <origin
      xyz="0.03005 0 -5E-05"
      rpy="0 0 0" />
    <parent
      link="Hand_RF1J3" />
    <child
      link="Hand_RF1J4" />
    <axis
      xyz="0 0 -1" />
    <limit
      lower="-3.14"
      upper="3.14"
      effort="200"
      velocity="10" />
    <dynamics
      damping="0.1"
      friction="0.1" />
  </joint>
  <link
    name="Hand_RF2J1">
    <inertial>
      <origin
        xyz="-2.49577442046345E-12 -0.000573266382514537 -0.00797915141575523"
        rpy="0 0 0" />
      <mass
        value="0.00152598652963305" />
      <inertia
        ixx="6.01888517729958E-08"
        ixy="-1.1084366921706E-16"
        ixz="2.38333900451093E-16"
        iyy="3.40749814067045E-08"
        iyz="-2.35613929939573E-10"
        izz="5.38692550191678E-08" />
    </inertial>
    <visual>
      <origin
        xyz="0 0 0"
        rpy="0 0 0" />
      <geometry>
        <mesh
          filename="Hand_RF2J1.STL" />
      </geometry>
      <material
        name="">
        <color
          rgba="0.752941176470588 0.752941176470588 0.752941176470588 1" />
      </material>
    </visual>
    <collision>
      <origin
        xyz="0 0 0"
        rpy="0 0 0" />
      <geometry>
        <mesh
          filename="Hand_RF2J1.STL" />
      </geometry>
    </collision>
  </link>
  <joint
    name="RF2J1"
    type="revolute">
    <origin
      xyz="-0.006325 0 -0.1166"
      rpy="3.1416 0 0" />
    <parent
      link="RHandbase_Link" />
    <child
      link="Hand_RF2J1" />
    <axis
      xyz="0 0 -1" />
    <limit
      lower="-3.14"
      upper="3.14"
      effort="200"
      velocity="10" />
    <dynamics
      damping="0.1"
      friction="0.1" />
  </joint>
  <link
    name="Hand_RF2J2">
    <inertial>
      <origin
        xyz="0.0200500000000031 0.00046981180722754 3.91575660785293E-13"
        rpy="0 0 0" />
      <mass
        value="0.0341378762027317" />
      <inertia
        ixx="1.55095491953695E-06"
        ixy="6.23329589486961E-22"
        ixz="5.14679947104184E-08"
        iyy="3.07194883415059E-06"
        iyz="2.34279373277244E-16"
        izz="2.03699339498727E-06" />
    </inertial>
    <visual>
      <origin
        xyz="0 0 0"
        rpy="0 0 0" />
      <geometry>
        <mesh
          filename="Hand_RF2J2.STL" />
      </geometry>
      <material
        name="">
        <color
          rgba="0.752941176470588 0.752941176470588 0.752941176470588 1" />
      </material>
    </visual>
    <collision>
      <origin
        xyz="0 0 0"
        rpy="0 0 0" />
      <geometry>
        <mesh
          filename="Hand_RF2J2.STL" />
      </geometry>
    </collision>
  </link>
  <joint
    name="RF2J2"
    type="revolute">
    <origin
      xyz="0 0.0005 0"
      rpy="1.5708 -1.5708 0" />
    <parent
      link="Hand_RF2J1" />
    <child
      link="Hand_RF2J2" />
    <axis
      xyz="0 0 -1" /> <!--xyz="0 0 1"-->
    <limit
      lower="-3.14"
      upper="3.14"
      effort="200"
      velocity="10" />
    <dynamics
      damping="0.1"
      friction="0.1" />
  </joint>
  <link
    name="Hand_RF2J3">
    <inertial>
      <origin
        xyz="0.0213452527304098 0.000452462897240257 -0.000262751115906623"
        rpy="0 0 0" />
      <mass
        value="0.0177234171241366" />
      <inertia
        ixx="7.82077647012838E-07"
        ixy="2.76624022495768E-16"
        ixz="2.55189728645645E-08"
        iyy="1.57867985630483E-06"
        iyz="-2.31451348978401E-16"
        izz="1.06661938708983E-06" />
    </inertial>
    <visual>
      <origin
        xyz="0 0 0"
        rpy="0 0 0" />
      <geometry>
        <mesh
          filename="Hand_RF2J3.STL" />
      </geometry>
      <material
        name="">
        <color
          rgba="0.752941176470588 0.752941176470588 0.752941176470588 1" />
      </material>
    </visual>
    <collision>
      <origin
        xyz="0 0 0"
        rpy="0 0 0" />
      <geometry>
        <mesh
          filename="Hand_RF2J3.STL" />
      </geometry>
    </collision>
  </link>
  <joint
    name="RF2J3"
    type="revolute">
    <origin
      xyz="0.0401 0 -0.000125"
      rpy="0 0 0" />
    <parent
      link="Hand_RF2J2" />
    <child
      link="Hand_RF2J3" />
    <axis
      xyz="0 0 -1" />
    <limit
      lower="-3.14"
      upper="3.14"
      effort="200"
      velocity="10" />
    <dynamics
      damping="0.1"
      friction="0.1" />
  </joint>
  <link
    name="Hand_RF2J4">
    <inertial>
      <origin
        xyz="0.0191981611653529 6.45145181326703E-05 -0.000413505079297327"
        rpy="0 0 0" />
      <mass
        value="0.00982919734972211" />
      <inertia
        ixx="4.97803804520722E-07"
        ixy="2.47624846928102E-08"
        ixz="2.11732681973548E-10"
        iyy="6.05941737288898E-07"
        iyz="2.34361136094944E-11"
        izz="3.88555902771411E-07" />
    </inertial>
    <visual>
      <origin
        xyz="0 0 0"
        rpy="0 0 0" />
      <geometry>
        <mesh
          filename="Hand_RF2J4.STL" />
      </geometry>
      <material
        name="">
        <color
          rgba="0.752941176470588 0.752941176470588 0.752941176470588 1" />
      </material>
    </visual>
    <collision>
      <origin
        xyz="0 0 0"
        rpy="0 0 0" />
      <geometry>
        <mesh
          filename="Hand_RF2J4.STL" />
      </geometry>
    </collision>
  </link>
  <joint
    name="RF2J4"
    type="revolute">
    <origin
      xyz="0.03005 0 -5E-05"
      rpy="0 0 0" />
    <parent
      link="Hand_RF2J3" />
    <child
      link="Hand_RF2J4" />
    <axis
      xyz="0 0 -1" />
    <limit
      lower="-3.14"
      upper="3.14"
      effort="200"
      velocity="10" />
    <dynamics
      damping="0.1"
      friction="0.1" />
  </joint>
  <link
    name="Hand_RF3J1">
    <inertial>
      <origin
        xyz="-3.15674569817403E-13 -0.00126651418198945 -0.00789882511853457"
        rpy="0 0 0" />
      <mass
        value="0.00152598635461991" />
      <inertia
        ixx="6.01888448277348E-08"
        ixy="-1.1532460852351E-16"
        ixz="2.6269492449962E-16"
        iyy="3.41844195139192E-08"
        iyz="1.48658590401027E-09"
        izz="5.3759806539206E-08" />
    </inertial>
    <visual>
      <origin
        xyz="0 0 0"
        rpy="0 0 0" />
      <geometry>
        <mesh
          filename="Hand_RF3J1.STL" />
      </geometry>
      <material
        name="">
        <color
          rgba="0.752941176470588 0.752941176470588 0.752941176470588 1" />
      </material>
    </visual>
    <collision>
      <origin
        xyz="0 0 0"
        rpy="0 0 0" />
      <geometry>
        <mesh
          filename="Hand_RF3J1.STL" />
      </geometry>
    </collision>
  </link>
  <joint
    name="RF3J1"
    type="revolute">
    <origin
      xyz="-0.006325 -0.033168 -0.11515"
      rpy="3.1416 0 0" />
    <parent
      link="RHandbase_Link" />
    <child
      link="Hand_RF3J1" />
    <axis
      xyz="0 -0.087156 -0.99619" />
    <limit
      lower="-3.14"
      upper="3.14"
      effort="200"
      velocity="10" />
    <dynamics
      damping="0.1"
      friction="0.1" />
  </joint>
  <link
    name="Hand_RF3J2">
    <inertial>
      <origin
        xyz="0.0200499999999694 0.000469811807150606 3.74589248508528E-13"
        rpy="0 0 0" />
      <mass
        value="0.0341378762034901" />
      <inertia
        ixx="1.55095491954361E-06"
        ixy="-1.56201314452556E-20"
        ixz="5.14679947102835E-08"
        iyy="3.07194883419817E-06"
        iyz="2.3421899190864E-16"
        izz="2.03699339503977E-06" />
    </inertial>
    <visual>
      <origin
        xyz="0 0 0"
        rpy="0 0 0" />
      <geometry>
        <mesh
          filename="Hand_RF3J2.STL" />
      </geometry>
      <material
        name="">
        <color
          rgba="0.752941176470588 0.752941176470588 0.752941176470588 1" />
      </material>
    </visual>
    <collision>
      <origin
        xyz="0 0 0"
        rpy="0 0 0" />
      <geometry>
        <mesh
          filename="Hand_RF3J2.STL" />
      </geometry>
    </collision>
  </link>
  <joint
    name="RF3J2"
    type="revolute">
    <origin
      xyz="0 0.0004981 -4.3578E-05"
      rpy="0 -1.4835 1.5708" />
    <parent
      link="Hand_RF3J1" />
    <child
      link="Hand_RF3J2" />
    <axis
      xyz="0 0 -1" /> <!--xyz="0 0 1"-->
    <limit
      lower="-3.14"
      upper="3.14"
      effort="200"
      velocity="10" />
    <dynamics
      damping="0.1"
      friction="0.1" />
  </joint>
  <link
    name="Hand_RF3J3">
    <inertial>
      <origin
        xyz="0.0213452529451178 0.000452462904718141 -0.000262751253703508"
        rpy="0 0 0" />
      <mass
        value="0.017723416829923" />
      <inertia
        ixx="7.82077644288634E-07"
        ixy="3.40153329904134E-16"
        ixz="2.55189726226308E-08"
        iyy="1.57867983086211E-06"
        iyz="-2.56838162261014E-16"
        izz="1.06661935960439E-06" />
    </inertial>
    <visual>
      <origin
        xyz="0 0 0"
        rpy="0 0 0" />
      <geometry>
        <mesh
          filename="Hand_RF3J3.STL" />
      </geometry>
      <material
        name="">
        <color
          rgba="0.752941176470588 0.752941176470588 0.752941176470588 1" />
      </material>
    </visual>
    <collision>
      <origin
        xyz="0 0 0"
        rpy="0 0 0" />
      <geometry>
        <mesh
          filename="Hand_RF3J3.STL" />
      </geometry>
    </collision>
  </link>
  <joint
    name="RF3J3"
    type="revolute">
    <origin
      xyz="0.0401 0 -0.000125"
      rpy="0 0 0" />
    <parent
      link="Hand_RF3J2" />
    <child
      link="Hand_RF3J3" />
    <axis
      xyz="0 0 -1" />
    <limit
      lower="-3.14"
      upper="3.14"
      effort="200"
      velocity="10" />
    <dynamics
      damping="0.1"
      friction="0.1" />
  </joint>
  <link
    name="Hand_RF3J4">
    <inertial>
      <origin
        xyz="0.0191981584943398 6.45210420670023E-05 -0.000413504232207151"
        rpy="0 0 0" />
      <mass
        value="0.00982918937760021" />
      <inertia
        ixx="4.97803815575106E-07"
        ixy="2.47620486663349E-08"
        ixz="2.11625749233638E-10"
        iyy="6.05941330685091E-07"
        iyz="2.31511129566794E-11"
        izz="3.8855529908188E-07" />
    </inertial>
    <visual>
      <origin
        xyz="0 0 0"
        rpy="0 0 0" />
      <geometry>
        <mesh
          filename="Hand_RF3J4.STL" />
      </geometry>
      <material
        name="">
        <color
          rgba="0.752941176470588 0.752941176470588 0.752941176470588 1" />
      </material>
    </visual>
    <collision>
      <origin
        xyz="0 0 0"
        rpy="0 0 0" />
      <geometry>
        <mesh
          filename="Hand_RF3J4.STL" />
      </geometry>
    </collision>
  </link>
  <joint
    name="RF3J4"
    type="revolute">
    <origin
      xyz="0.03005 0 -5E-05"
      rpy="0 0 0" />
    <parent
      link="Hand_RF3J3" />
    <child
      link="Hand_RF3J4" />
    <axis
      xyz="0 0 -1" />
    <limit
      lower="-3.14"
      upper="3.14"
      effort="200"
      velocity="10" />
    <dynamics
      damping="0.1"
      friction="0.1" />
  </joint>
</robot>
